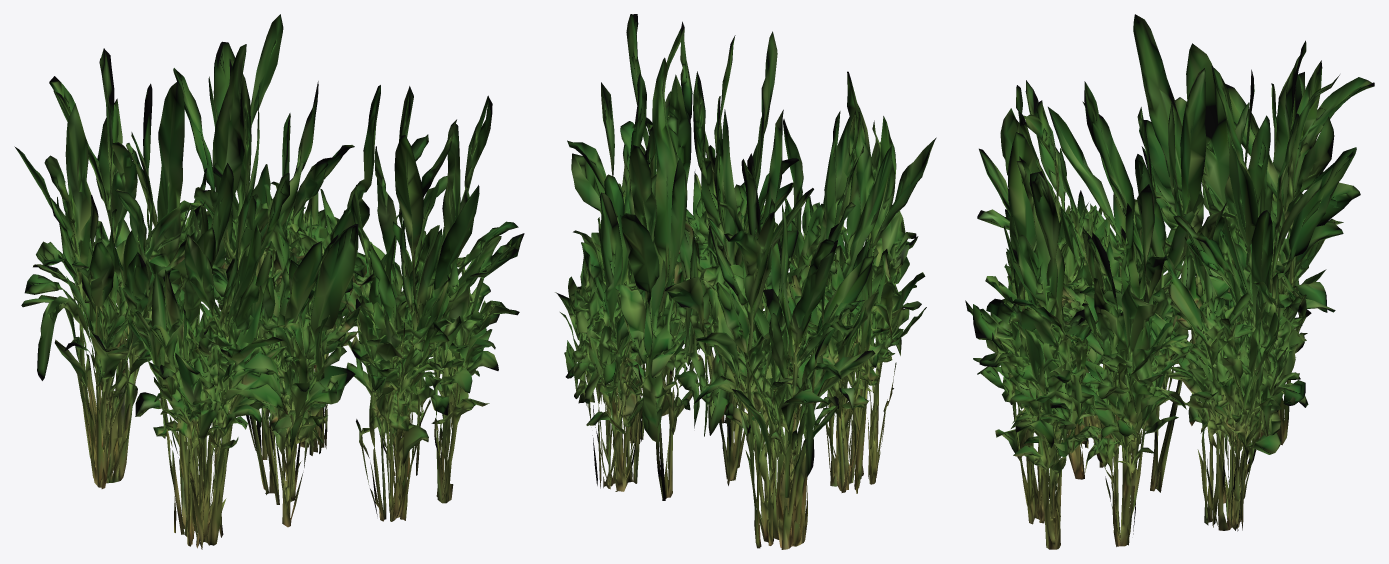
The model's file is ginger.glb.
3 renders of one model, left to right at view 1: azimuth 30°, elevation 25°; view 2: azimuth 150°, elevation 25°; view 3: azimuth 270°, elevation 25°, orthographic. The views are drawn at different scales.
Parts seen in each view (by area): view 1: Mesh_0.001; view 2: Mesh_0.001; view 3: Mesh_0.001.
Boxes of the visible parts, x1,y1,x2,y2 form: Mesh_0.001: [14, 14, 524, 549]; Mesh_0.001: [555, 14, 936, 549]; Mesh_0.001: [965, 14, 1374, 549].
Bounding box in the file's own units: 1.2 × 1.5 × 1.2.
